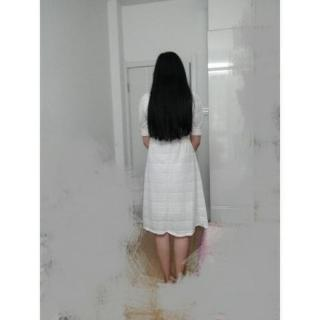short sleeve dress: (139, 91, 209, 237)
